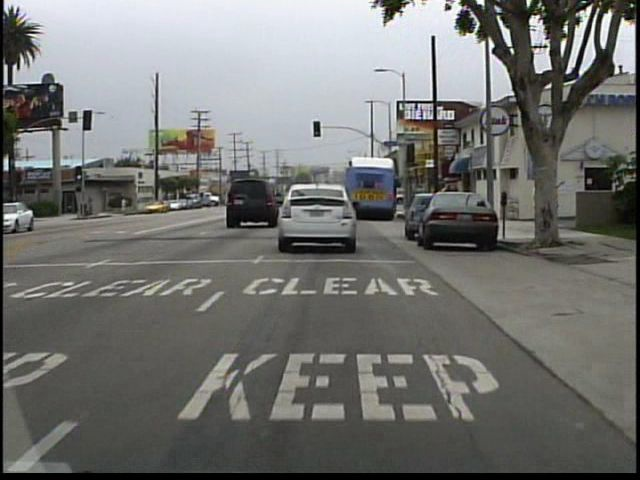person: (528, 174, 546, 230), (538, 177, 555, 233), (412, 180, 431, 220), (121, 195, 131, 214)
